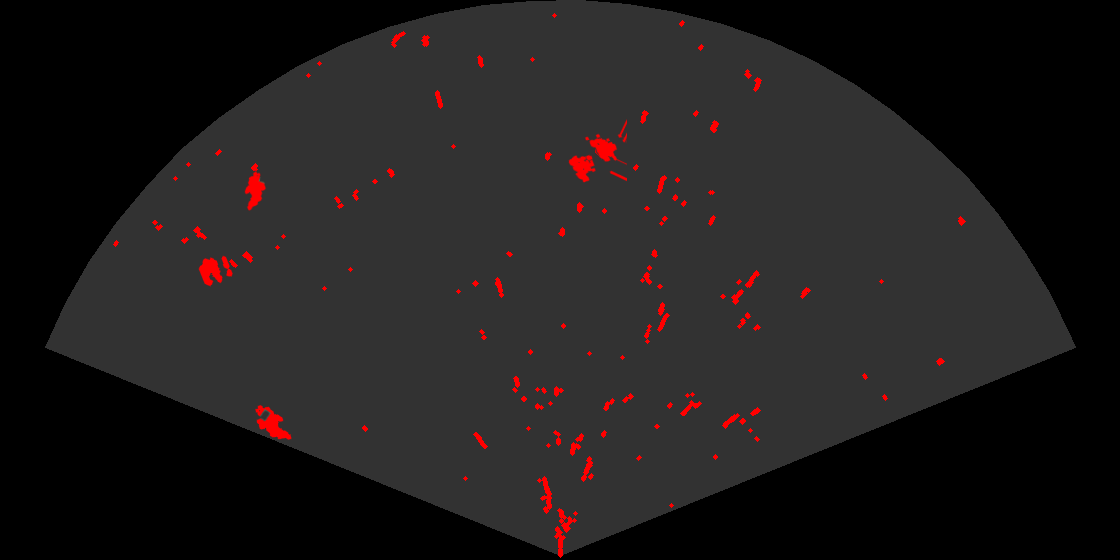AUV: (254, 403, 293, 441), (243, 170, 268, 212)
ball: (197, 254, 234, 288)
cage: (567, 118, 627, 184)
